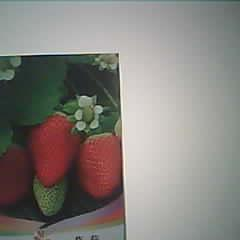straw-ripe: (30, 112, 78, 186), (79, 133, 123, 197)
